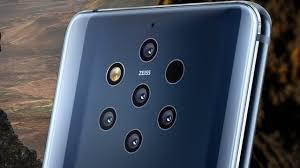Smartphone: (44, 10, 253, 168)
